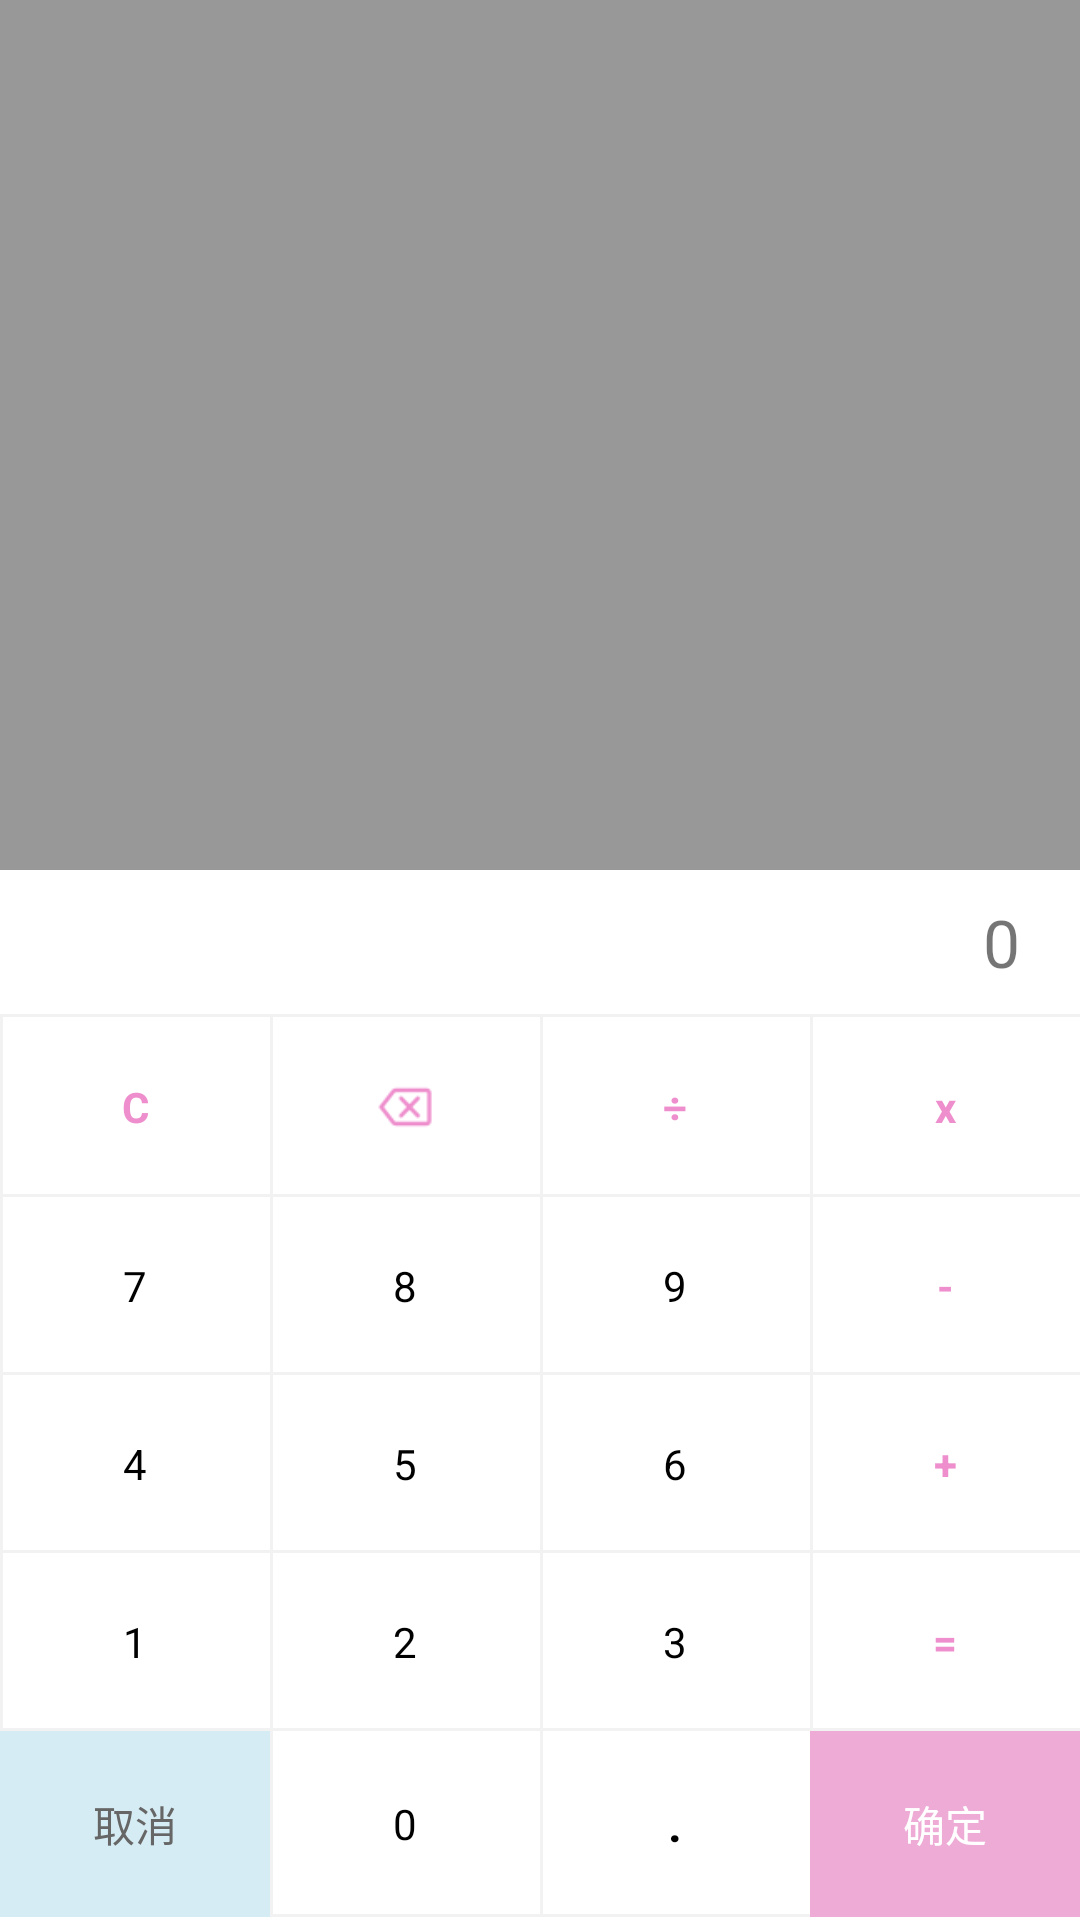

Screen size 1080px×1920px. Icon name, then its box in pixels as BBox(x1, y1, x2, y2):
backspace: BBox(379, 1088, 432, 1126)
